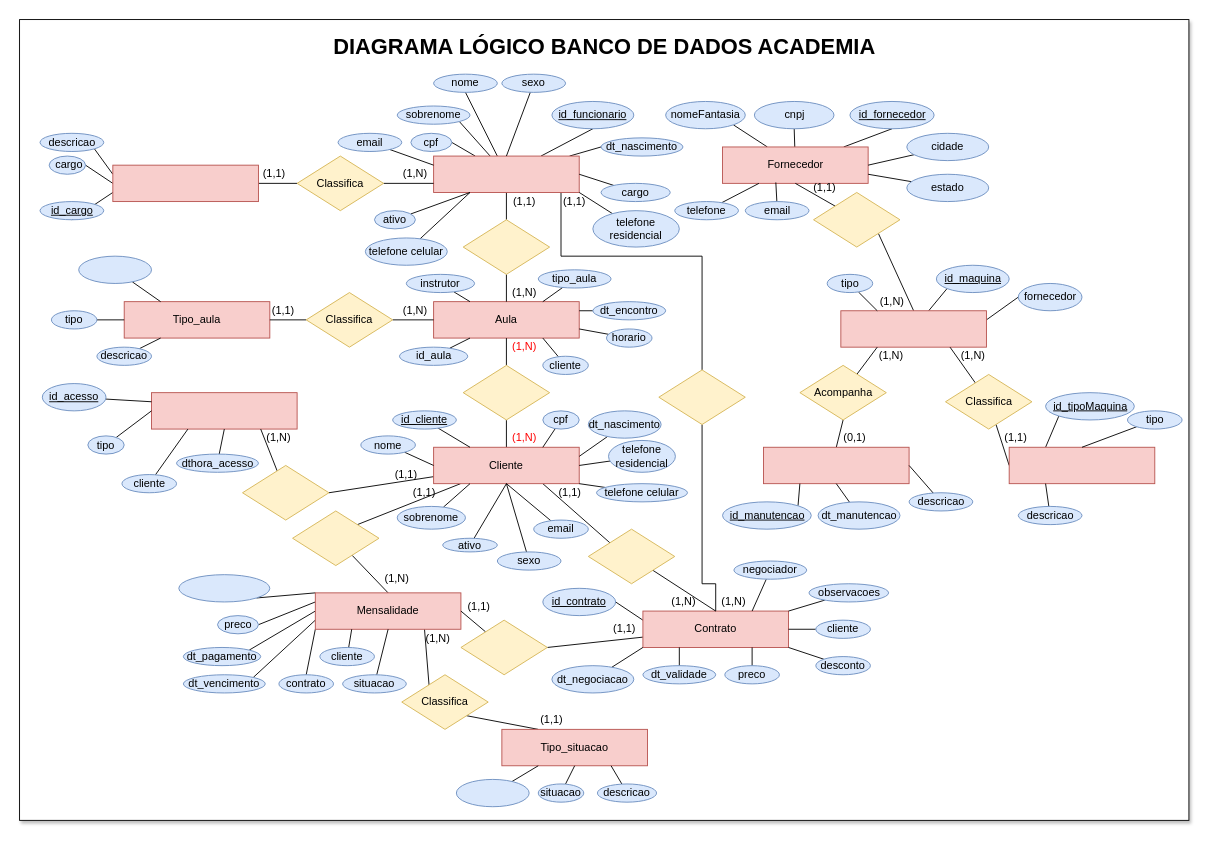
This 1210x843 diagram has some shape labels left out. Each missing label, with the centre of its shape:
"Acessa" goes at (285,492).
"Assina" goes at (631,556).
"Define" goes at (503,647).
"Fornece" goes at (856,219).
"Funcionario" goes at (506,173).
"Historico_acesso" goes at (224,410).
"Historico_manutencao" goes at (836,465).
"id_mensalidade" goes at (224,588).
"id_situacao" goes at (492,793).
"id_tipoAula" goes at (115,269).
"Maquina" goes at (913,328).
"Negocia" goes at (701,397).
"Organiza" goes at (506,246).
"Paga" goes at (335,538).
"Participa" goes at (506,392).
"Tipo_cargo" goes at (185,183).
"Tipo_maquina" goes at (1081,465).
